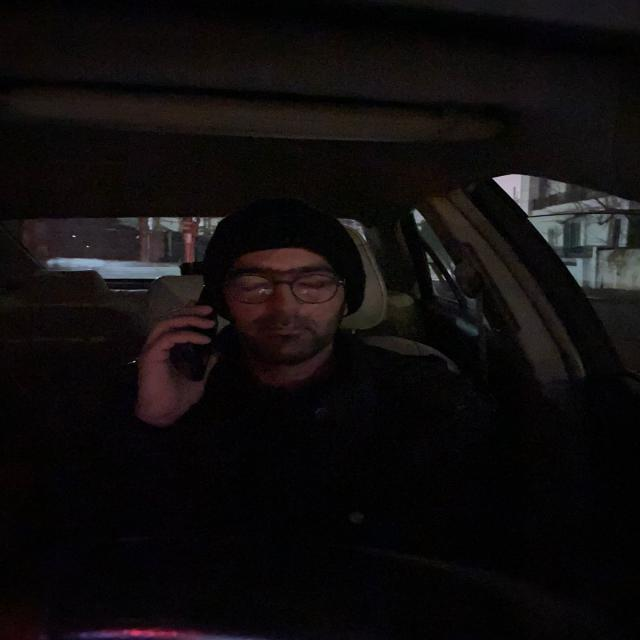mobile: (178, 284, 226, 388)
person: (201, 194, 375, 378)
